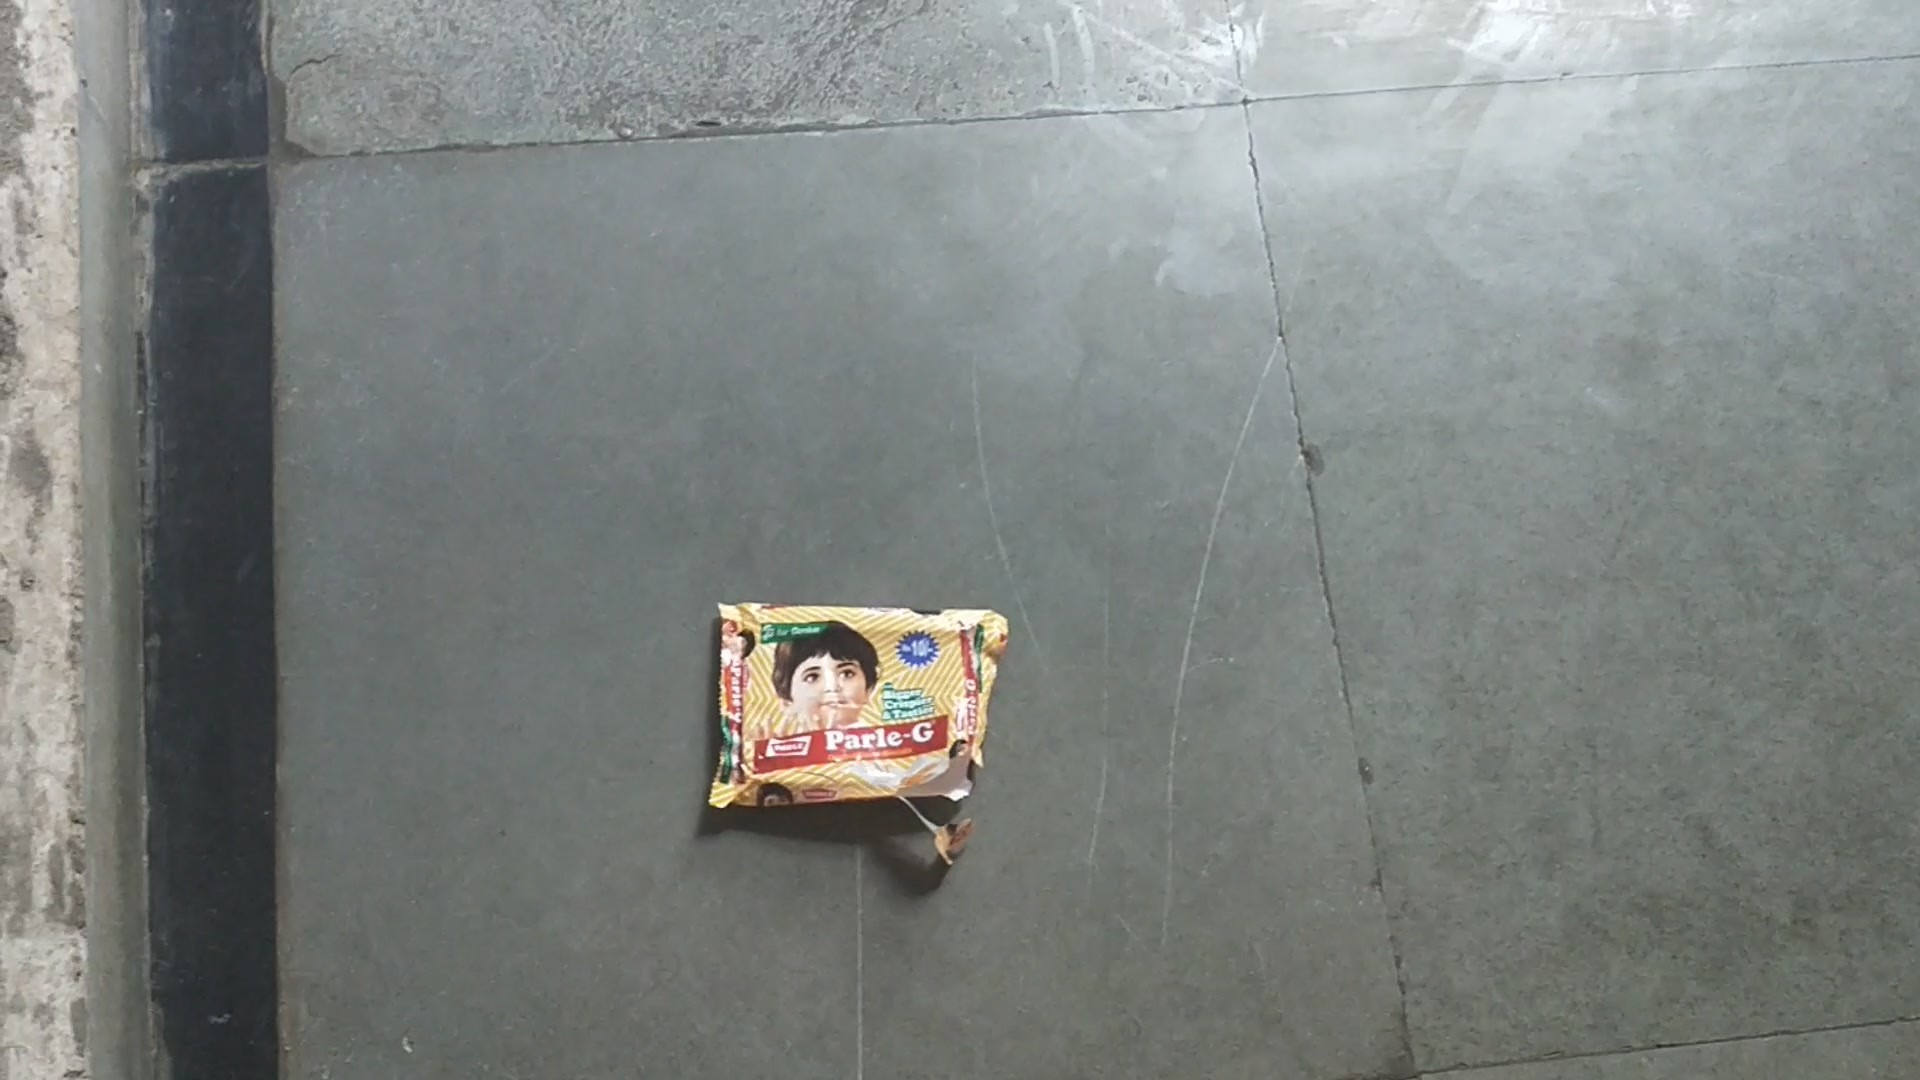parle-g: (724, 612, 969, 791)
